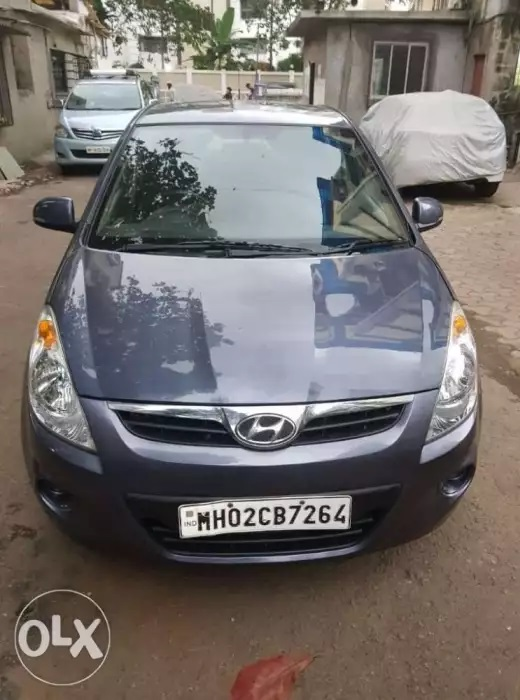licenseplate: (171, 494, 358, 538)
